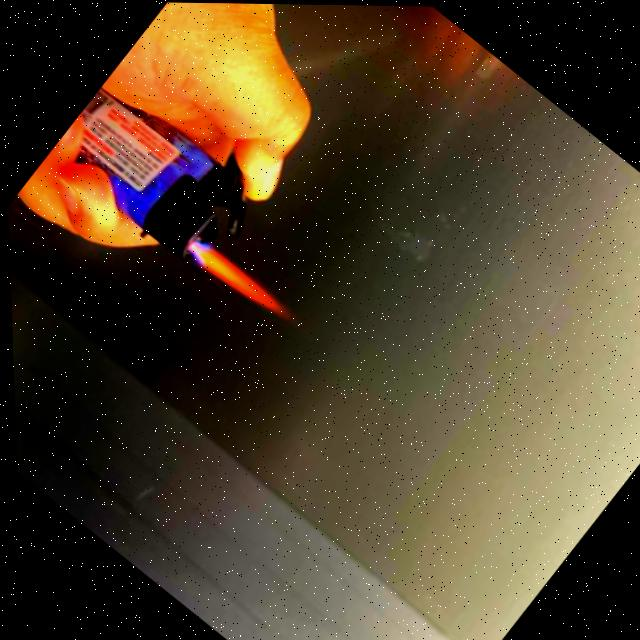Fire: (186, 236, 288, 325)
